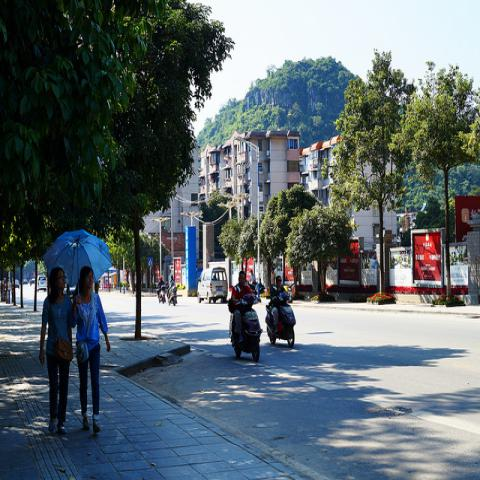car: (37, 275, 46, 292)
motorcycle: (228, 293, 263, 362), (265, 291, 295, 348), (246, 273, 266, 295), (168, 286, 178, 306), (159, 284, 165, 304)
truck: (196, 267, 228, 303)
